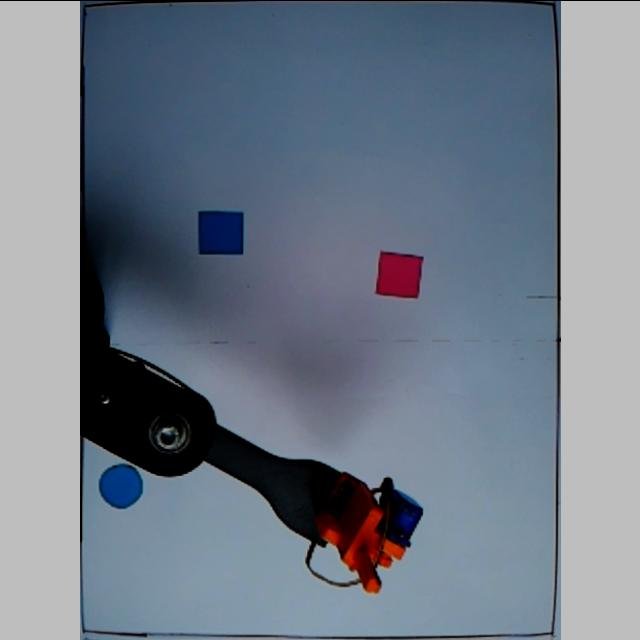blueCircle: (96, 461, 142, 509)
blueSquare: (193, 208, 245, 260)
pinkSquare: (372, 250, 426, 302)
